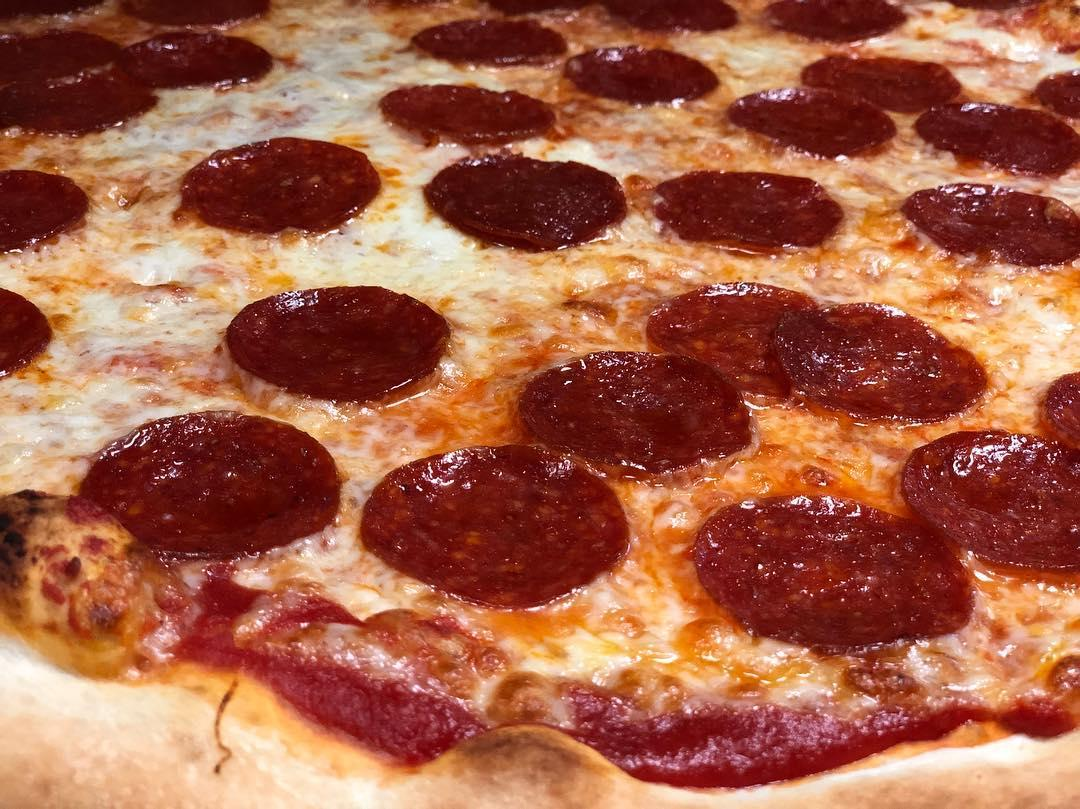Pepperoni: (681, 501, 978, 652), (358, 451, 636, 605), (74, 411, 345, 554), (521, 351, 754, 472), (904, 431, 1080, 585), (228, 288, 456, 401), (761, 308, 980, 414), (181, 138, 376, 238), (424, 154, 620, 243), (648, 281, 818, 383), (911, 184, 1080, 269), (918, 98, 1080, 183), (8, 28, 139, 132), (661, 174, 845, 247), (734, 81, 885, 161), (388, 81, 565, 147), (134, 28, 270, 92), (408, 8, 561, 61), (811, 61, 958, 116), (574, 48, 707, 103), (4, 174, 85, 252), (1, 284, 50, 385), (774, 1, 905, 38), (621, 8, 743, 38)
Pizza: (4, 8, 1080, 809)
